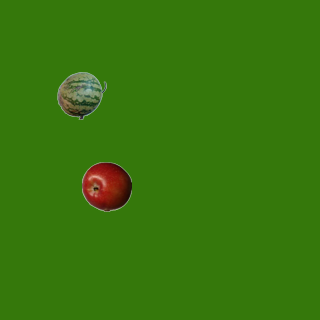Apple Braeburn: (81, 161, 131, 211)
Watermelon: (56, 70, 106, 120)
